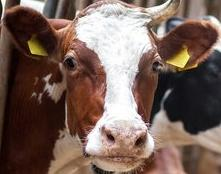muzzles: (82, 119, 157, 174)
